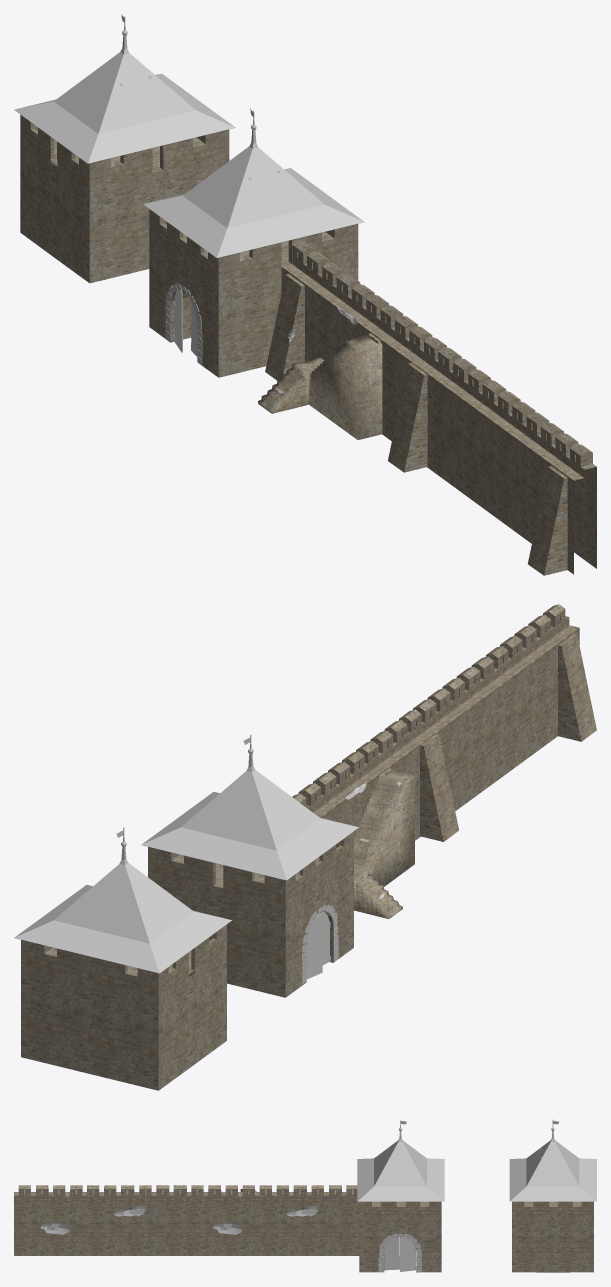
File: fort_wall.fbx
3 renders of one model, top to bottom at view 1: azimuth 30°, elevation 25°; view 2: azimuth 150°, elevation 25°; view 3: azimuth 270°, elevation 25°, orthographic. The views are drawn at different scales.
Visible parts, largest first — view 1: fort_tower_corner, fort_tower, fort_wall, fort_wall_segment; view 2: fort_tower_corner, fort_tower, fort_wall_segment, fort_wall, fort_tower_door_4; view 3: fort_wall, fort_wall_segment, fort_tower_corner, fort_tower, fort_tower_door, fort_tower_door_2.
Boxes of the visible parts, box(x1,y1,x2,y2) form: fort_tower_corner: box(14, 14, 235, 283); fort_tower: box(143, 109, 364, 377); fort_wall: box(258, 240, 446, 472); fort_wall_segment: box(427, 347, 596, 575); fort_tower_corner: box(14, 828, 232, 1090); fort_tower: box(141, 735, 358, 997); fort_wall_segment: box(413, 604, 596, 810); fort_wall: box(292, 709, 458, 918); fort_tower_door_4: box(306, 913, 322, 979); fort_wall: box(186, 1185, 359, 1255); fort_wall_segment: box(14, 1185, 186, 1255); fort_tower_corner: box(509, 1120, 596, 1272); fort_tower: box(357, 1120, 444, 1272); fort_tower_door: box(400, 1236, 416, 1271); fort_tower_door_2: box(384, 1236, 399, 1270).
Bounding box in the file's own units: 12.34 × 17.92 × 71.29.
